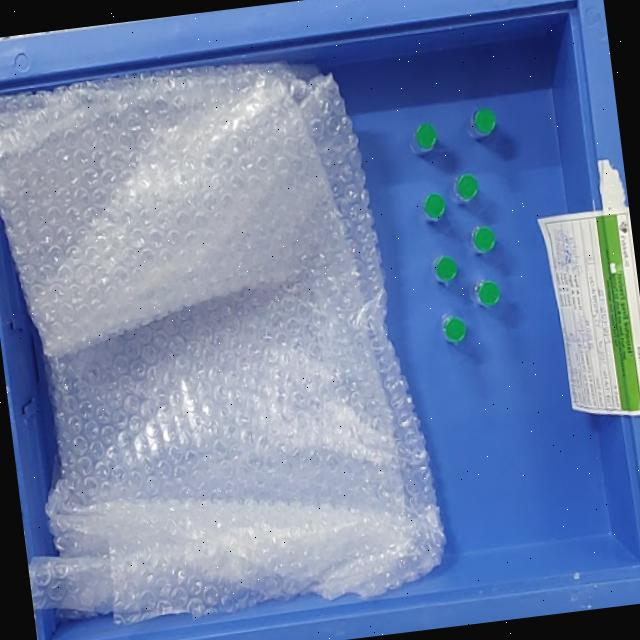vials: (414, 122, 437, 151), (472, 107, 496, 134), (476, 279, 500, 305), (472, 225, 495, 252), (443, 316, 466, 343), (455, 173, 478, 199), (434, 255, 457, 281), (423, 193, 445, 220)
